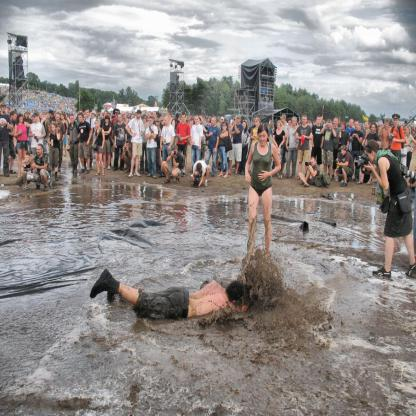face: (365, 150, 374, 164), (259, 133, 268, 146), (37, 148, 43, 156), (341, 150, 347, 156), (118, 115, 122, 123), (372, 126, 376, 134), (394, 120, 399, 126), (2, 106, 7, 112), (26, 156, 30, 163), (13, 115, 17, 122), (71, 117, 75, 124), (150, 119, 154, 126), (182, 116, 186, 123), (195, 117, 199, 124), (303, 117, 307, 124), (350, 121, 354, 128), (356, 123, 360, 130), (174, 151, 179, 156), (20, 117, 24, 123), (79, 117, 83, 123), (116, 111, 120, 117), (123, 114, 127, 120), (257, 122, 261, 128), (293, 120, 297, 126), (311, 161, 315, 167), (342, 124, 346, 130), (365, 123, 369, 129), (406, 130, 410, 136), (366, 131, 370, 137), (57, 115, 60, 122), (157, 120, 160, 127), (318, 117, 321, 124), (335, 120, 338, 127), (34, 117, 38, 122), (127, 144, 131, 149), (51, 114, 54, 120), (53, 126, 56, 132), (87, 111, 90, 117), (96, 122, 99, 128), (154, 113, 157, 119), (165, 120, 168, 126), (201, 118, 204, 124), (212, 120, 215, 126), (223, 124, 226, 130), (244, 123, 247, 129), (278, 124, 281, 130), (386, 123, 389, 129), (26, 115, 29, 120), (105, 113, 108, 118), (107, 119, 110, 124), (138, 114, 141, 119), (144, 118, 147, 123), (149, 114, 152, 119), (198, 121, 201, 126), (237, 118, 240, 123), (278, 150, 281, 155), (282, 118, 285, 123), (289, 122, 292, 127), (167, 113, 170, 118), (41, 115, 44, 119), (93, 115, 96, 119), (162, 122, 165, 126), (62, 115, 64, 120)
